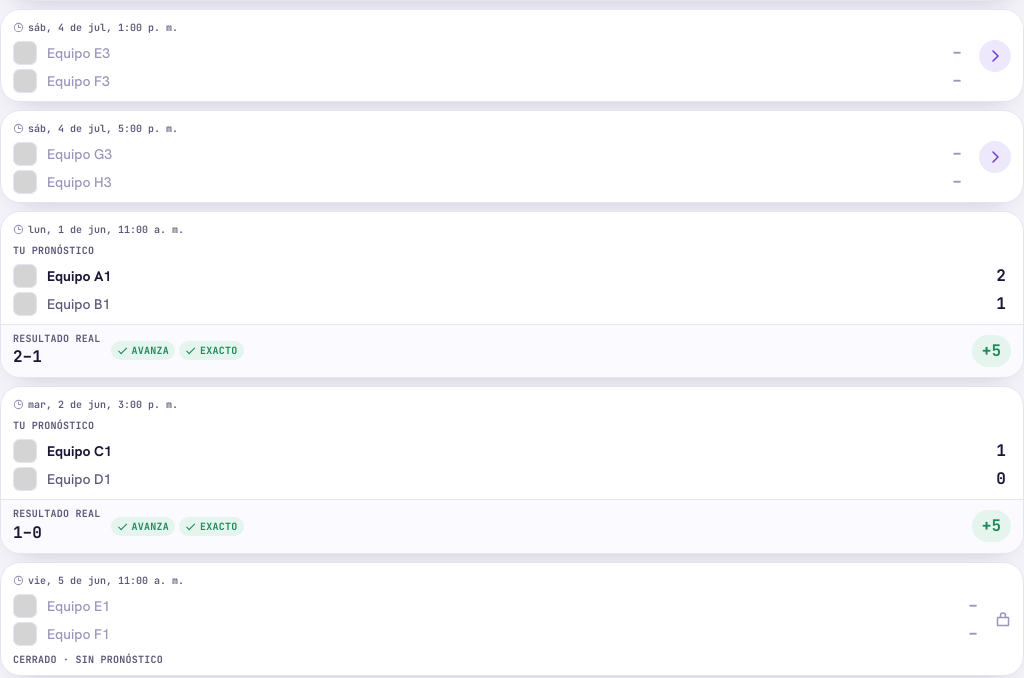
KoPredictionSheet — ingreso de pronóstico KO › partido finalizado: solo lectura con resultado real, sin botón de guardar
The width and height of the screenshot is (1024, 678).
(page scrolled)
Click the button with aria-label "Equipo A1 vs Equipo B1" at (512, 294), box left=0, top=210, right=1023, bottom=378
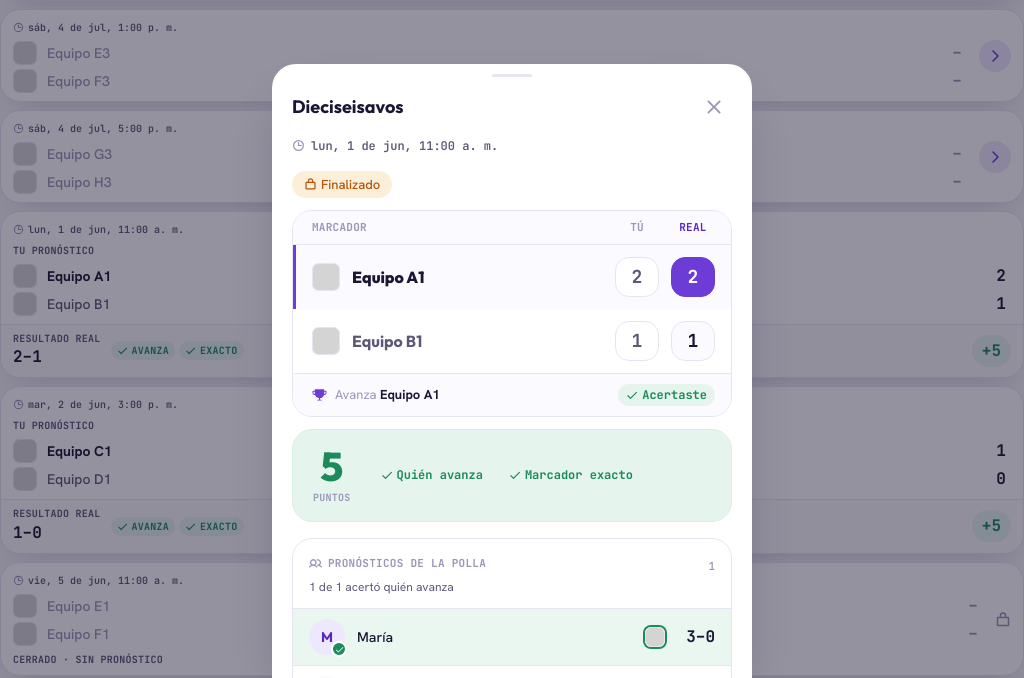
Expected: the text "Real" is shown, left=679, top=220, right=707, bottom=234
Expected: the text "Avanza" is shown, left=335, top=386, right=380, bottom=403
Expected: the text "Acertaste" is shown, left=618, top=384, right=715, bottom=406
